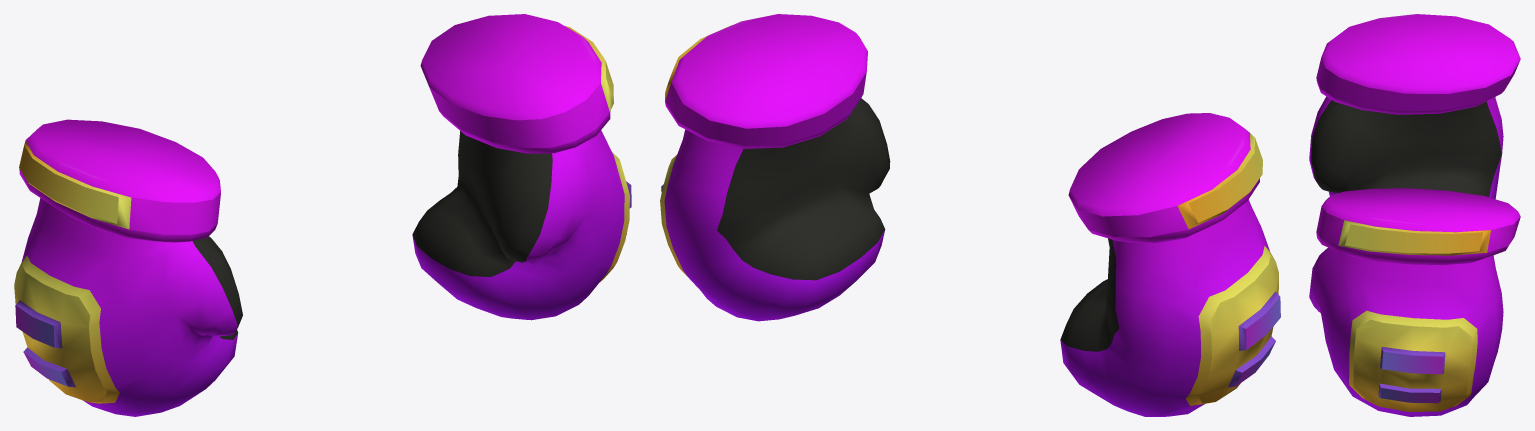
File: gloves5.fbx
The picture shows the model from 3 angles, left to right: view 1: azimuth 30°, elevation 25°; view 2: azimuth 150°, elevation 25°; view 3: azimuth 270°, elevation 25°; orthographic projection. The views are drawn at different scales.
Visible parts, largest first — view 1: 5, 5.001; view 2: 5.001, 5; view 3: 5.001, 5.
Boxes of the visible parts, box(x1,y1,x2,y2) form: 5: box(14, 119, 242, 416); 5.001: box(412, 14, 631, 320); 5.001: box(660, 14, 890, 321); 5: box(1060, 113, 1280, 416); 5.001: box(1309, 188, 1520, 416); 5: box(1309, 14, 1520, 199).
Bounding box in the file's own units: 1.42 × 0.5953 × 0.5401.
